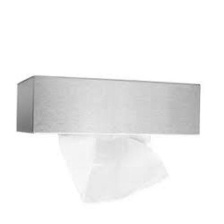book: (11, 70, 207, 142)
tissue: (50, 127, 176, 210)
